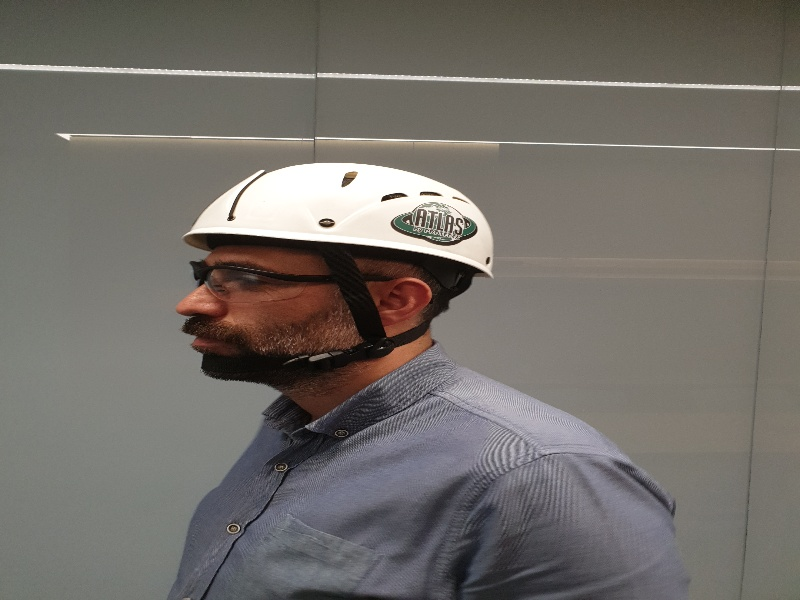Baret: (183, 161, 497, 273)
Gozluk: (190, 258, 393, 303)
